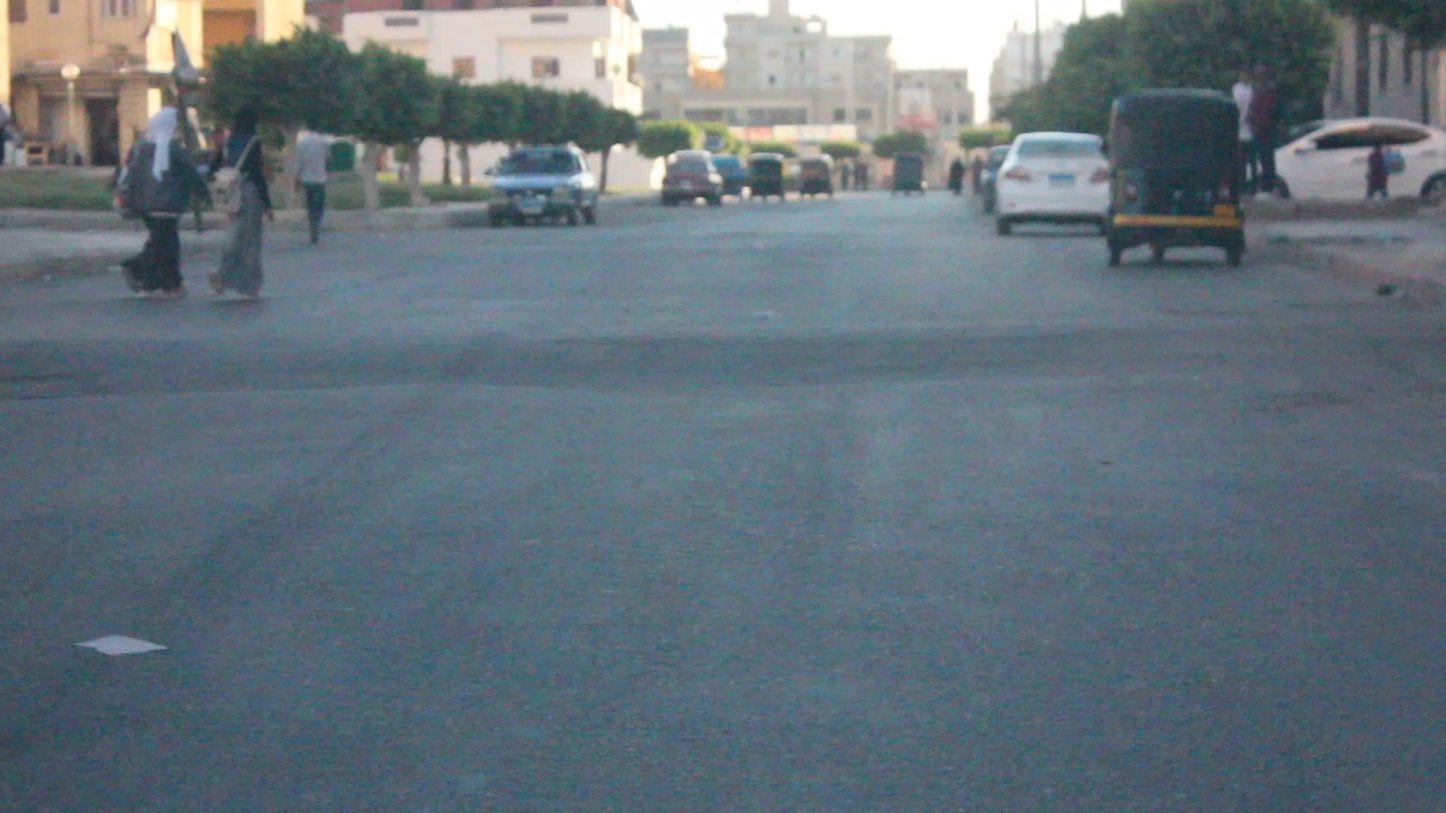Bump: (6, 320, 1446, 378)
